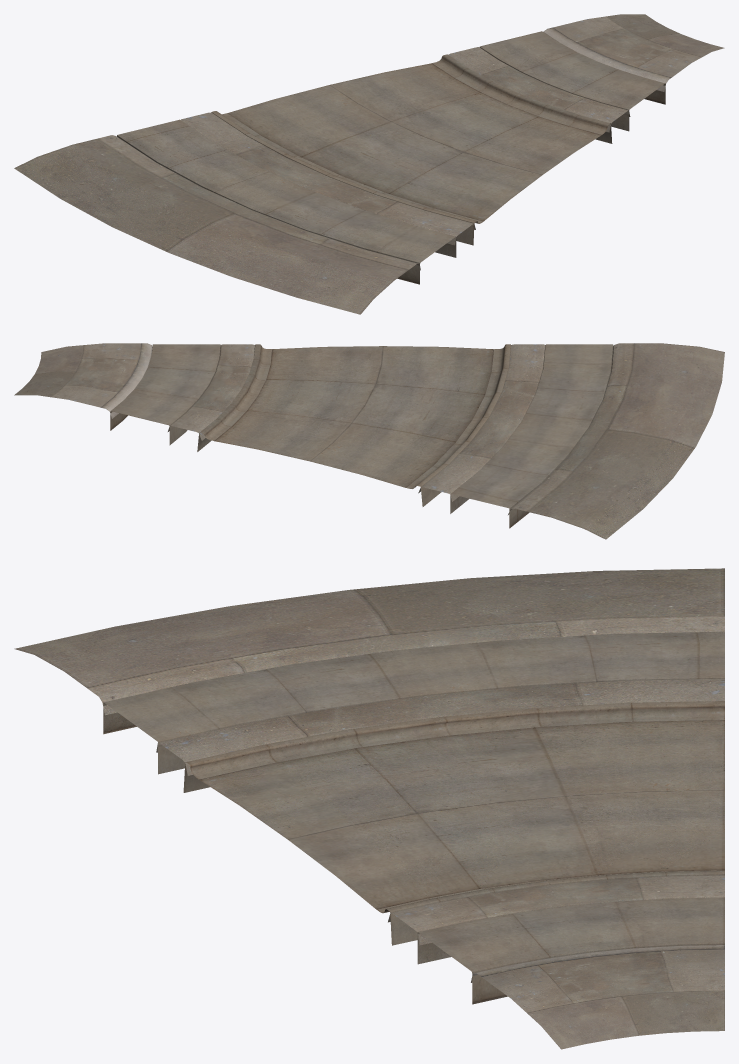
Rendered from sancCurvePre.FBX.
3 renders of one model, top to bottom at view 1: azimuth 30°, elevation 25°; view 2: azimuth 150°, elevation 25°; view 3: azimuth 270°, elevation 25°, orthographic. The views are drawn at different scales.
Parts seen in each view (by area): view 1: Circle001:3, Circle001:0, Circle001:1; view 2: Circle001:3, Circle001:0, Circle001:1; view 3: Circle001:3, Circle001:0, Circle001:1.
Boxes of the visible parts, x1,y1,x2,y2 form: Circle001:3: [14, 14, 724, 314]; Circle001:0: [227, 63, 601, 221]; Circle001:1: [117, 31, 665, 284]; Circle001:3: [14, 343, 724, 539]; Circle001:0: [214, 346, 493, 487]; Circle001:1: [110, 344, 613, 528]; Circle001:3: [14, 568, 724, 1049]; Circle001:0: [199, 720, 724, 909]; Circle001:1: [103, 631, 724, 1004].
Bounding box in the file's own units: 1333 × 44.18 × 833.
